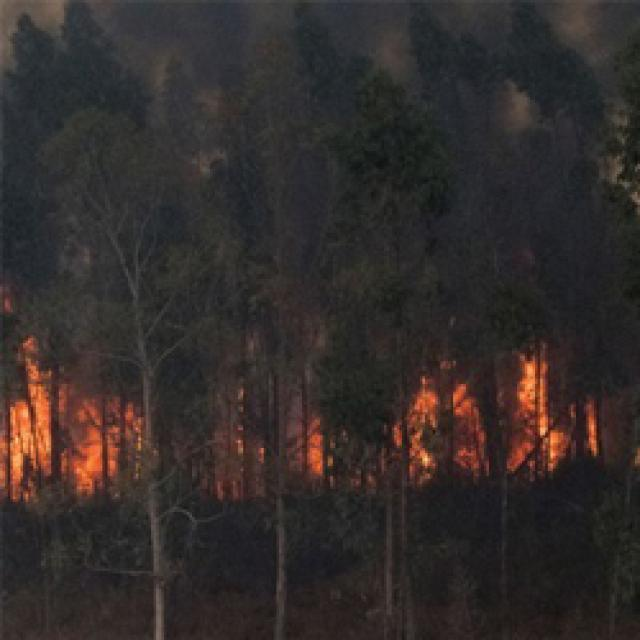Fire: (0, 332, 117, 508), (392, 356, 492, 492), (516, 343, 558, 469), (294, 413, 324, 478), (125, 397, 148, 461), (230, 388, 244, 456), (585, 402, 598, 450), (250, 449, 266, 463)
Smoke: (8, 0, 494, 83), (447, 90, 590, 286), (486, 0, 640, 92)
